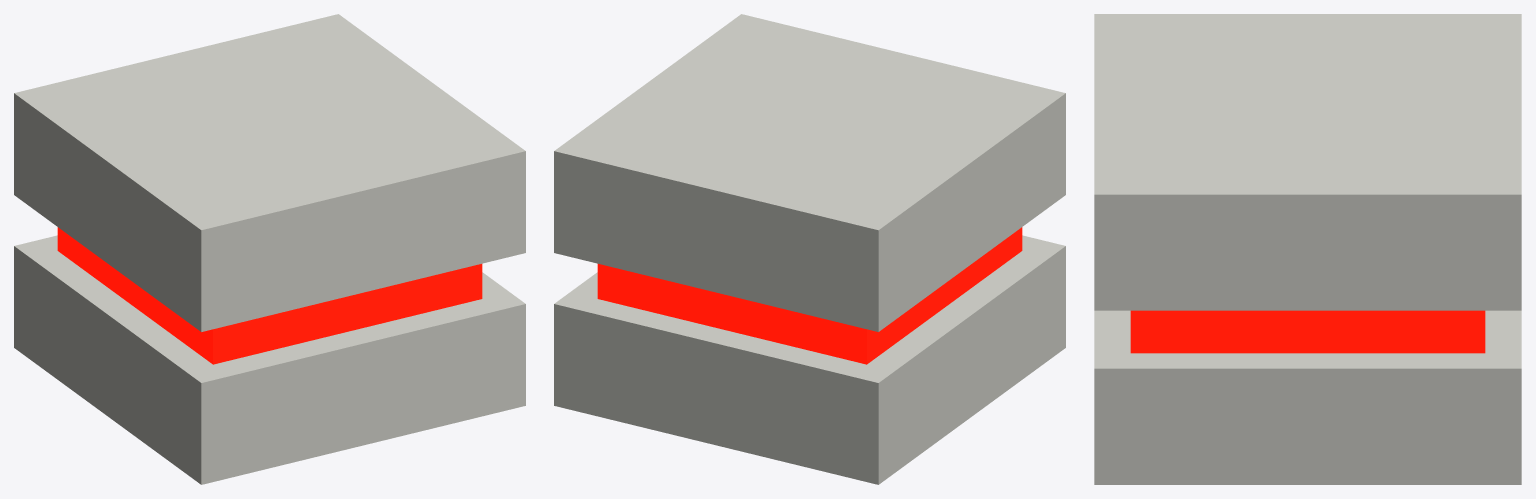
The model's file is unit.fbx.
The picture shows the model from 3 angles, left to right: view 1: azimuth 30°, elevation 25°; view 2: azimuth 150°, elevation 25°; view 3: azimuth 270°, elevation 25°; orthographic projection. The views are drawn at different scales.
Visible parts, largest first — view 1: Cube; view 2: Cube; view 3: Cube.
Part boxes in pixels (x1,y1,x2,y2): Cube: [14, 14, 525, 484]; Cube: [554, 14, 1065, 484]; Cube: [1094, 14, 1521, 484].
Size of the model in its own units: 2 by 1.5 by 2.
